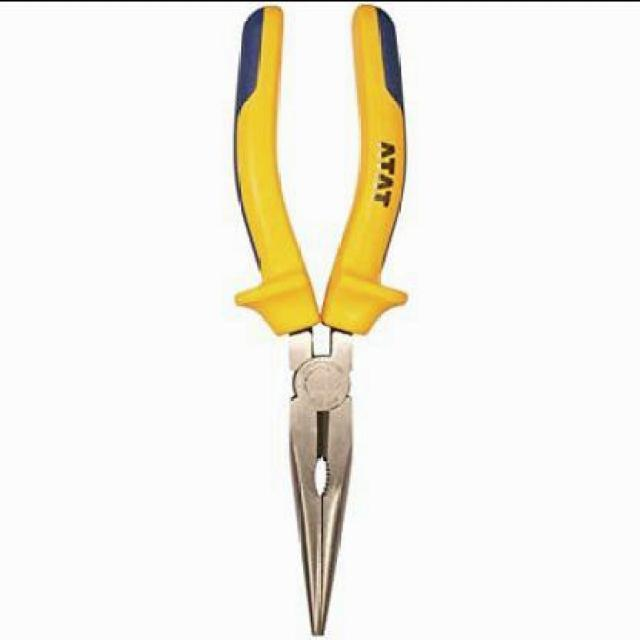pliers: (233, 6, 424, 634)
